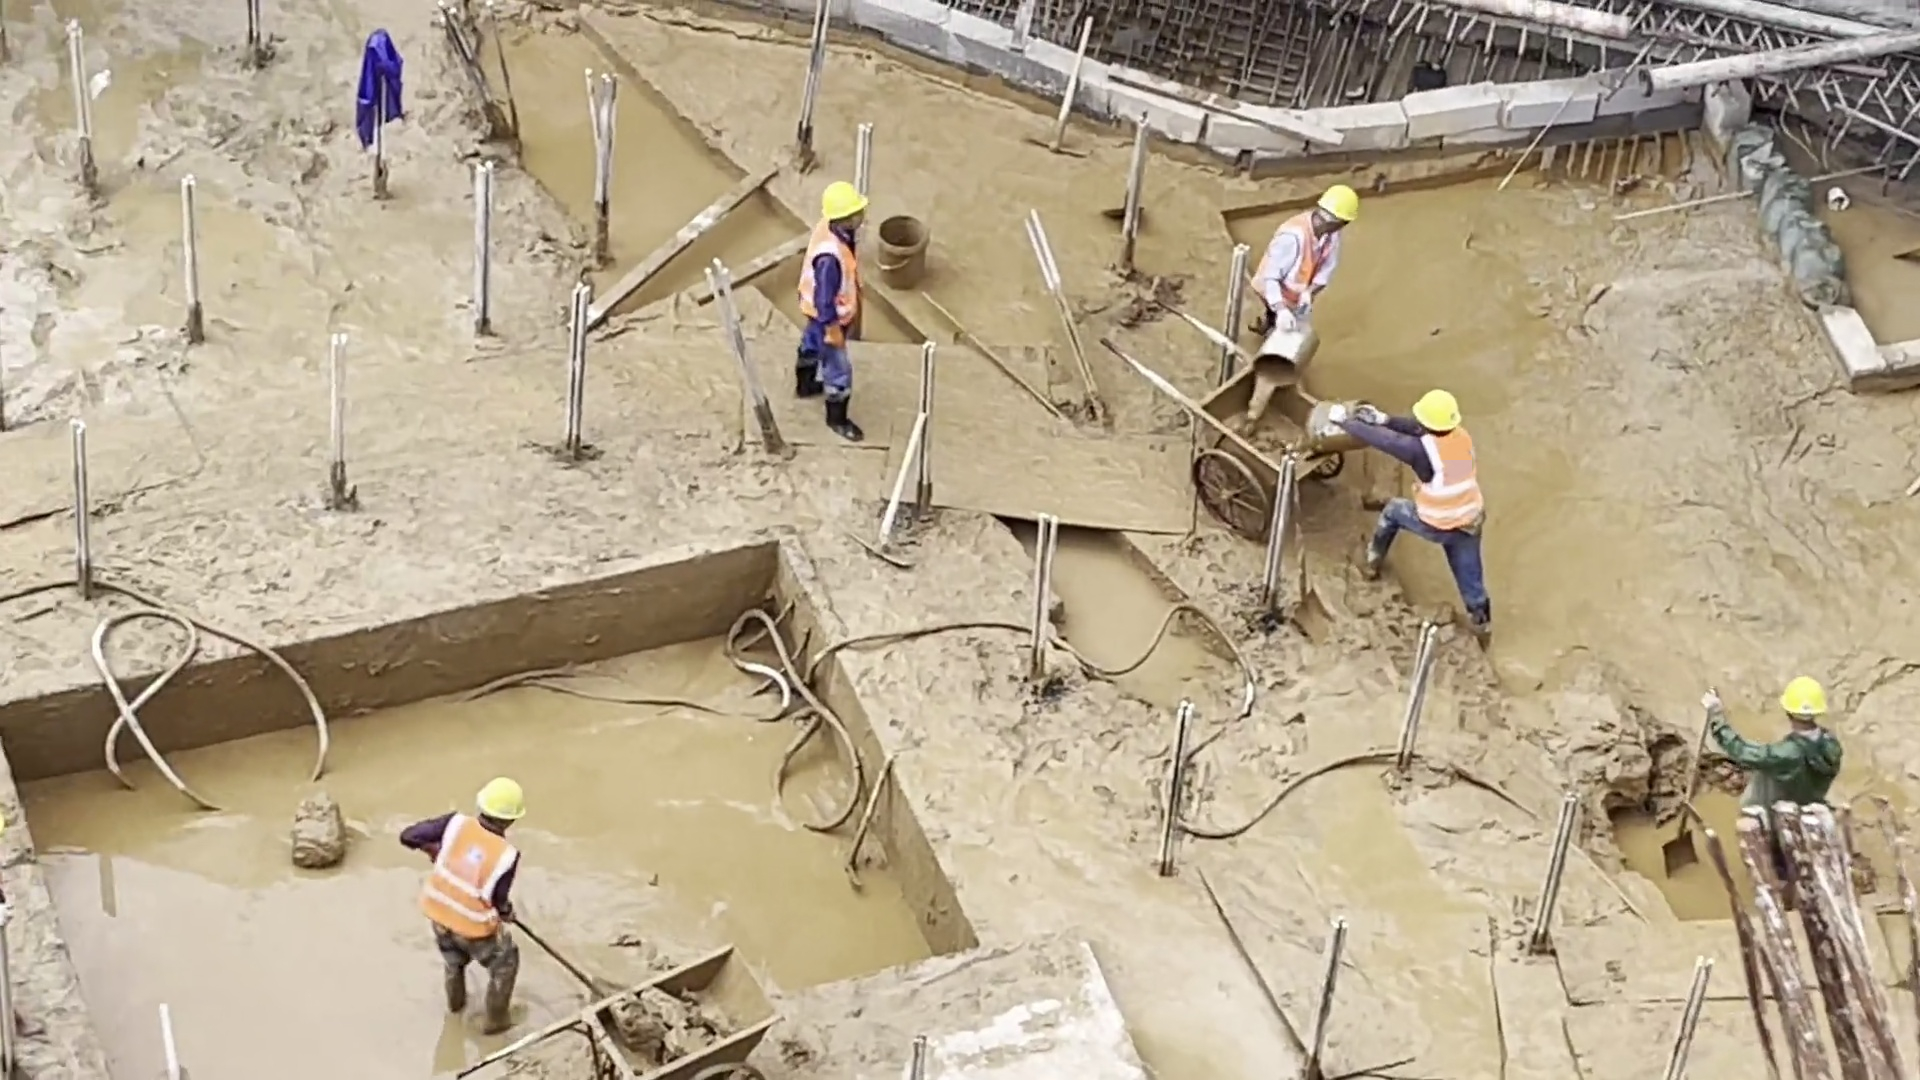handcart: (1098, 296, 1346, 539), (462, 945, 784, 1079)
helmet: (476, 775, 527, 823), (1410, 389, 1462, 432), (1777, 674, 1828, 719), (820, 180, 867, 221), (1316, 186, 1360, 223)
person: (1331, 385, 1495, 623), (398, 772, 522, 1036), (1242, 181, 1369, 343), (795, 181, 871, 445), (1697, 670, 1844, 806)
vest: (420, 823, 522, 936), (1256, 208, 1339, 306), (1413, 419, 1482, 534), (794, 218, 863, 326)
